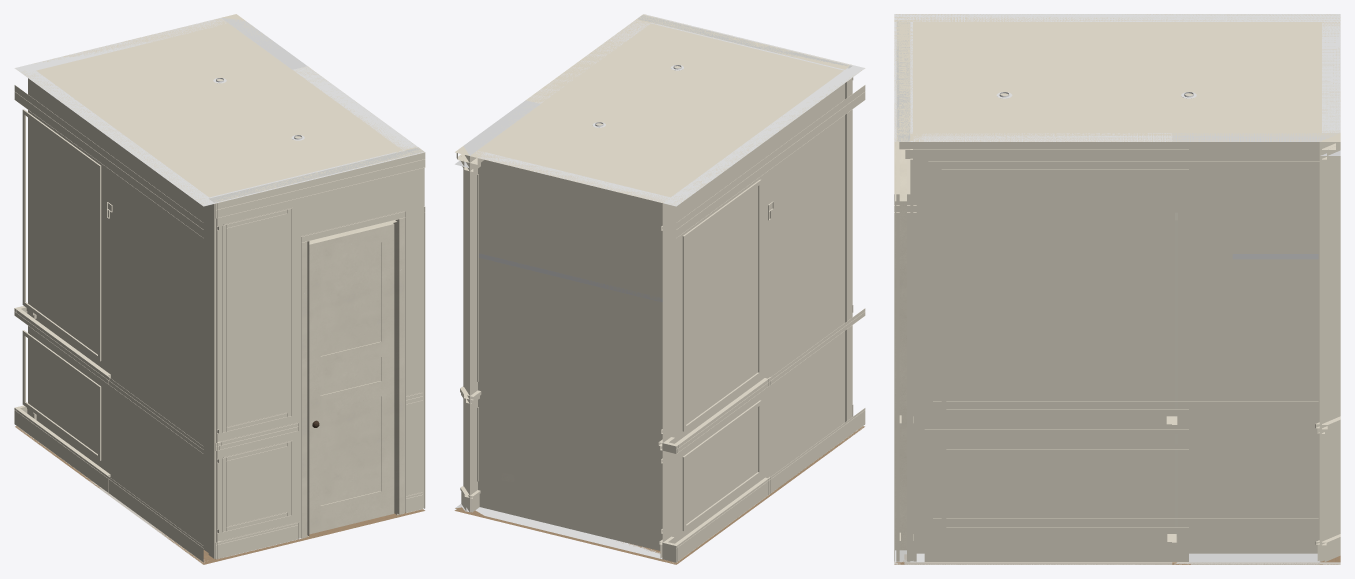
File: loli-closet-45de7e37dd90.glb
3 renders of one model, left to right at view 1: azimuth 30°, elevation 25°; view 2: azimuth 150°, elevation 25°; view 3: azimuth 270°, elevation 25°, orthographic. The views are drawn at different scales.
Visible parts, largest first — view 1: loli-closet-6a1144f4e43410bb, loli-closet-0e637d2be41161fb, loli-closet-2575515a05775d9e, loli-closet-5b37b110dc0e2cdc, loli-closet-d6b1bc8c737b28e2, loli-closet-e1ae12ec9cba52a2, loli-closet-609bc1027670cc96, loli-closet-2c29ddcb8551cb02, loli-closet-e54d813e60c9e7c4, loli-closet-8c325fd3303e2546, loli-closet-cff4566edbc5d5ad, loli-closet-9d632b693d1b5808 (+16 smaller); view 2: loli-closet-e1ae12ec9cba52a2, loli-closet-6a1144f4e43410bb, loli-closet-2575515a05775d9e, loli-closet-0e637d2be41161fb, loli-closet-1c7325212038a6e7, loli-closet-2c29ddcb8551cb02, loli-closet-e54d813e60c9e7c4, loli-closet-cff4566edbc5d5ad, loli-closet-cc15fd6f291c811e, loli-closet-f6f53edb039cffb5, loli-closet-3b0077416469e01b, loli-closet-507cee9bdbce9ceb (+6 smaller); view 3: loli-closet-03bdd0165789d12b, loli-closet-1c7325212038a6e7, loli-closet-2575515a05775d9e, loli-closet-1bcbe5547b2cfbdc, loli-closet-92c333610bf7beb4, loli-closet-a8b6749dbb482e83, loli-closet-aaf71131b60d1226, loli-closet-b6646e2e222b858d, loli-closet-0b1205313859304a, loli-closet-b000e8b10159de15, loli-closet-6a1144f4e43410bb, loli-closet-d6b1bc8c737b28e2 (+12 smaller).
Boxes of the visible parts, x1,y1,x2,y2 form: loli-closet-6a1144f4e43410bb: [15, 65, 215, 562]; loli-closet-0e637d2be41161fb: [208, 146, 424, 559]; loli-closet-2575515a05775d9e: [16, 14, 424, 205]; loli-closet-5b37b110dc0e2cdc: [309, 223, 394, 534]; loli-closet-d6b1bc8c737b28e2: [302, 218, 404, 538]; loli-closet-e1ae12ec9cba52a2: [28, 18, 226, 408]; loli-closet-609bc1027670cc96: [215, 152, 425, 218]; loli-closet-2c29ddcb8551cb02: [14, 408, 203, 562]; loli-closet-e54d813e60c9e7c4: [14, 85, 203, 237]; loli-closet-8c325fd3303e2546: [222, 209, 291, 432]; loli-closet-cff4566edbc5d5ad: [22, 109, 101, 361]; loli-closet-9d632b693d1b5808: [307, 219, 398, 536]; loli-closet-e1ae12ec9cba52a2: [470, 151, 670, 558]; loli-closet-6a1144f4e43410bb: [662, 65, 864, 543]; loli-closet-2575515a05775d9e: [455, 14, 864, 205]; loli-closet-0e637d2be41161fb: [637, 14, 852, 422]; loli-closet-1c7325212038a6e7: [463, 100, 540, 511]; loli-closet-2c29ddcb8551cb02: [676, 408, 865, 562]; loli-closet-e54d813e60c9e7c4: [676, 85, 865, 237]; loli-closet-cff4566edbc5d5ad: [682, 179, 761, 431]; loli-closet-cc15fd6f291c811e: [470, 24, 655, 171]; loli-closet-f6f53edb039cffb5: [682, 400, 761, 530]; loli-closet-3b0077416469e01b: [454, 426, 864, 564]; loli-closet-507cee9bdbce9ceb: [673, 378, 768, 452]; loli-closet-03bdd0165789d12b: [913, 133, 1172, 562]; loli-closet-1c7325212038a6e7: [1172, 133, 1340, 562]; loli-closet-2575515a05775d9e: [894, 14, 1340, 141]; loli-closet-1bcbe5547b2cfbdc: [924, 542, 1188, 562]; loli-closet-92c333610bf7beb4: [928, 161, 1319, 405]; loli-closet-a8b6749dbb482e83: [916, 534, 1319, 553]; loli-closet-aaf71131b60d1226: [913, 141, 1188, 159]; loli-closet-b6646e2e222b858d: [928, 436, 1319, 523]; loli-closet-0b1205313859304a: [941, 169, 1188, 414]; loli-closet-b000e8b10159de15: [916, 416, 1319, 425]; loli-closet-6a1144f4e43410bb: [894, 14, 1340, 21]; loli-closet-d6b1bc8c737b28e2: [895, 142, 906, 550].
Bounding box in the file's own units: 1.95 × 3.03 × 2.88.
17 materials, 3 textured.
